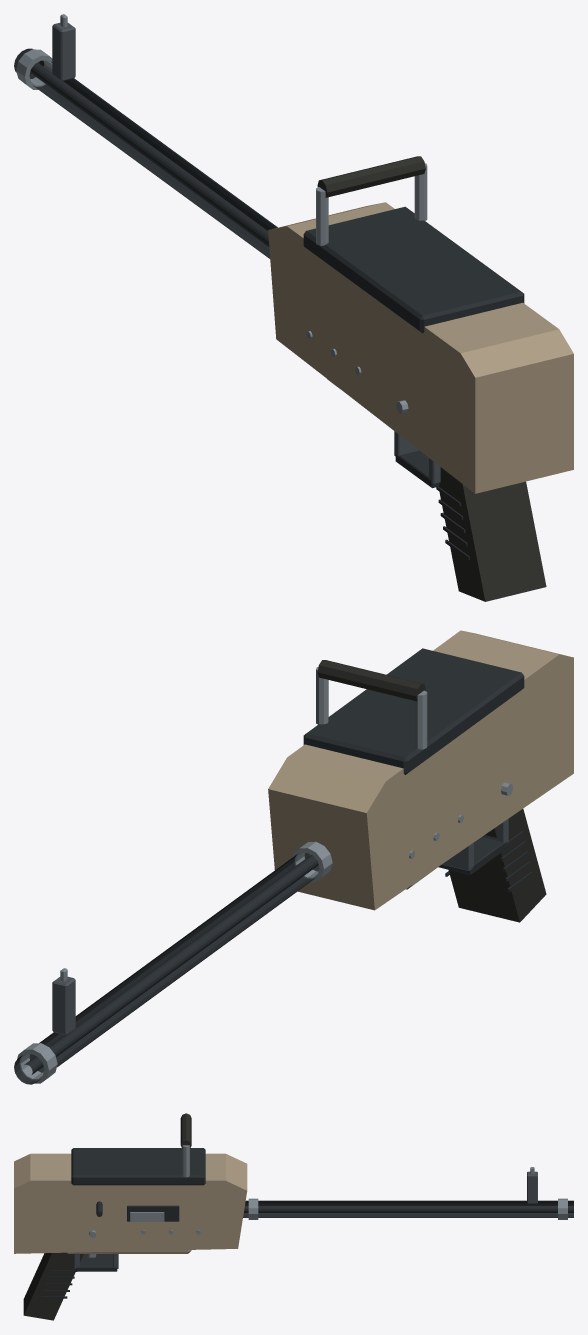
Rendered from weapon_yak762.glb.
3 renders of one model, top to bottom at view 1: azimuth 30°, elevation 25°; view 2: azimuth 150°, elevation 25°; view 3: azimuth 270°, elevation 25°, orthographic. The views are drawn at different scales.
Visible parts, largest first — view 1: Geometry_weapon_yak762; view 2: Geometry_weapon_yak762; view 3: Geometry_weapon_yak762.
Part boxes in pixels (left/top/right/bottom): Geometry_weapon_yak762: left=14, top=14, right=573, bottom=601; Geometry_weapon_yak762: left=14, top=630, right=573, bottom=1084; Geometry_weapon_yak762: left=14, top=1113, right=573, bottom=1320.
Size of the model in its own units: 0.1512 by 0.335 by 0.917.
